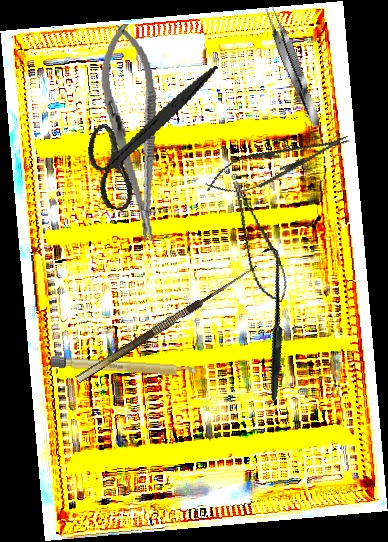Hook Surgical: (192, 243, 350, 403), (69, 254, 260, 384)
Iris Scissors: (76, 43, 219, 225)
Micro Scissor: (229, 174, 292, 308)
Needle Holder: (93, 21, 175, 245), (200, 122, 356, 205)
Scalpel Handle: (50, 355, 198, 379)
Tissue Forceps: (259, 2, 327, 132)
